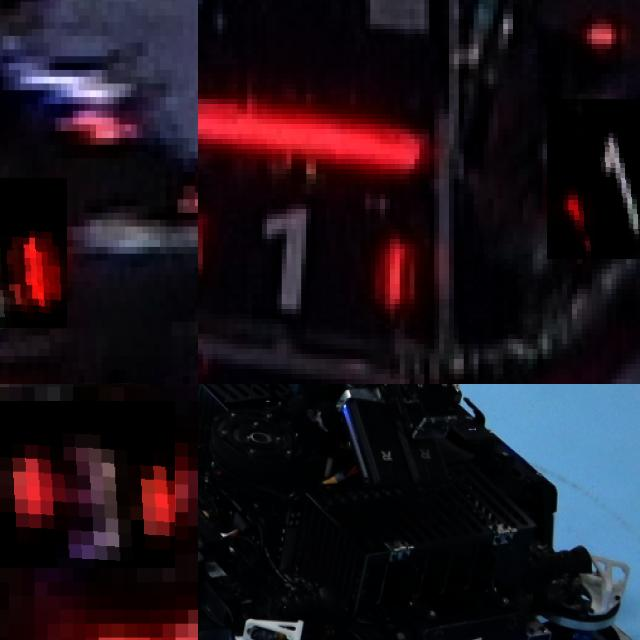R1: (198, 189, 419, 329), (547, 99, 640, 259)
R3: (0, 401, 175, 568)
R4: (0, 178, 67, 328)
